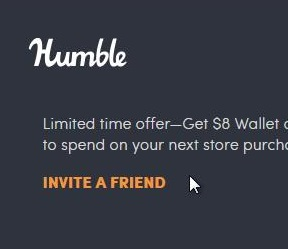cursor: (188, 174, 202, 196)
